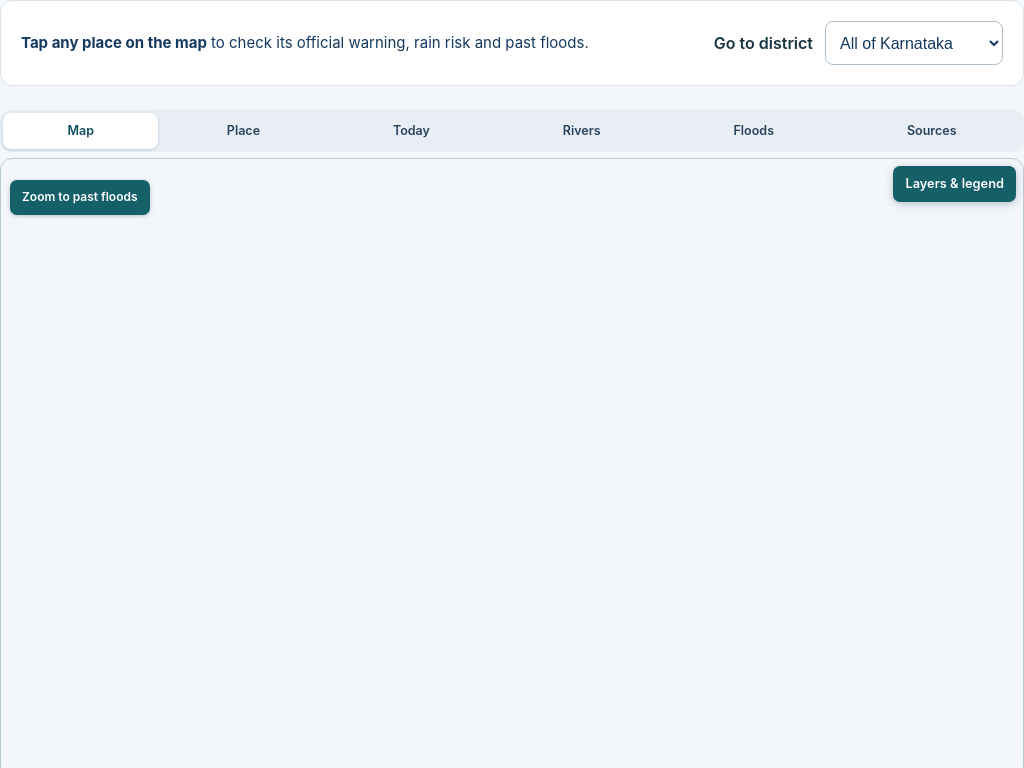
Test case: a river forecast outage is stated, never shown as normal rivers
Click the tab "Rivers".
click(582, 131)  # box [498,113,665,149]
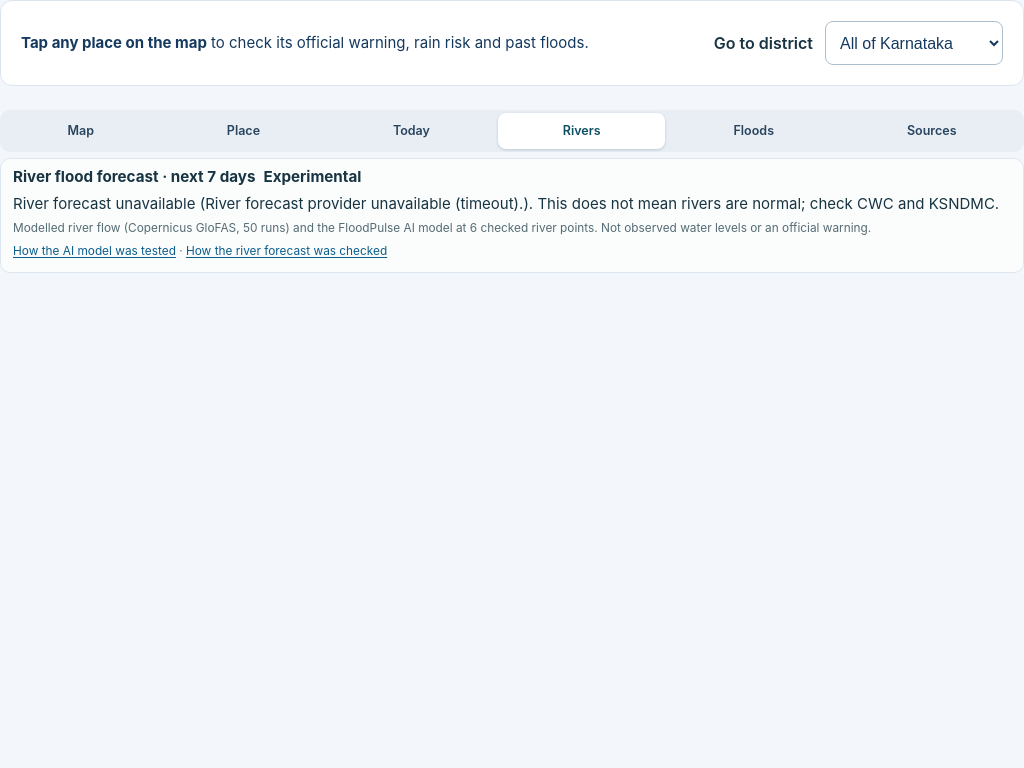
Expected: the text "River forecast unavailable (River forecast provider unavailable (timeout).). This does not mean rivers are normal" is shown, [13,192,1011,215]
